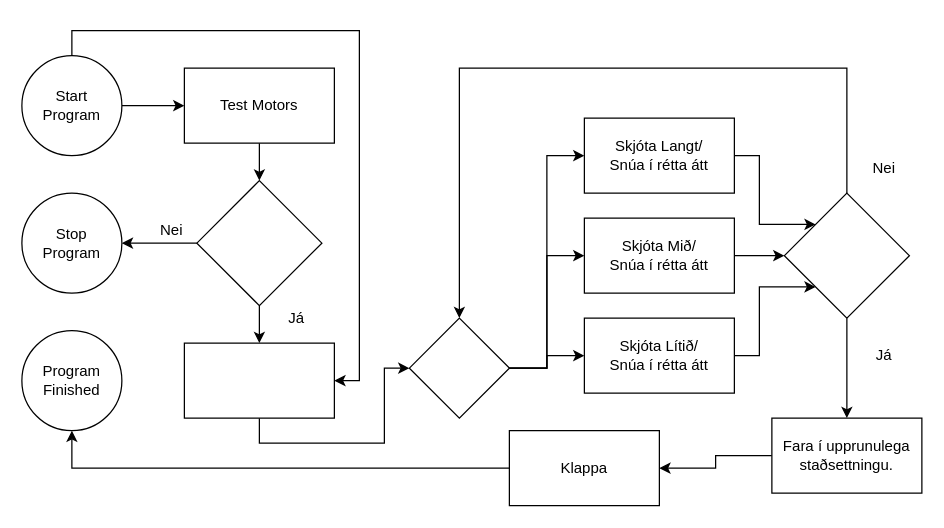
Image size: 944x528. Some labels were removed from this diagram. Here are the shapes that lost their labels. From the top down, the centre of each, then its label:
At point 259,242: "Virkar Allt".
At point 846,255: "Er búið að skjóta allt ?".
At point 258,380: "Snúa í rétta átt af 3".
At point 458,367: "Array/ List".
